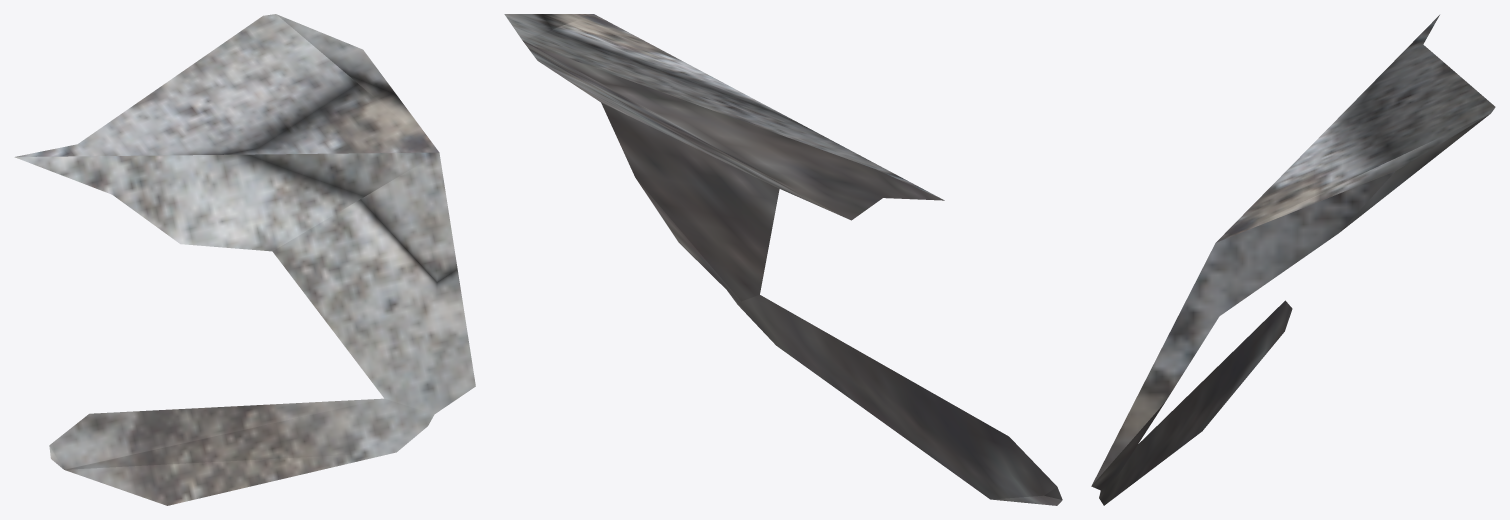
File: Asteroid_Large_001_02_008_03_026.fbx
The picture shows the model from 3 angles, left to right: view 1: azimuth 30°, elevation 25°; view 2: azimuth 150°, elevation 25°; view 3: azimuth 270°, elevation 25°; orthographic projection. The views are drawn at different scales.
Visible parts, largest first — view 1: Asteroid_Large_001_02_008_03_026; view 2: Asteroid_Large_001_02_008_03_026; view 3: Asteroid_Large_001_02_008_03_026.
Boxes of the visible parts, x1,y1,x2,y2 form: Asteroid_Large_001_02_008_03_026: (14, 14, 475, 505); Asteroid_Large_001_02_008_03_026: (504, 14, 1062, 505); Asteroid_Large_001_02_008_03_026: (1091, 15, 1495, 505).
Size of the model in its own units: 4.29 by 4.03 by 3.24.
